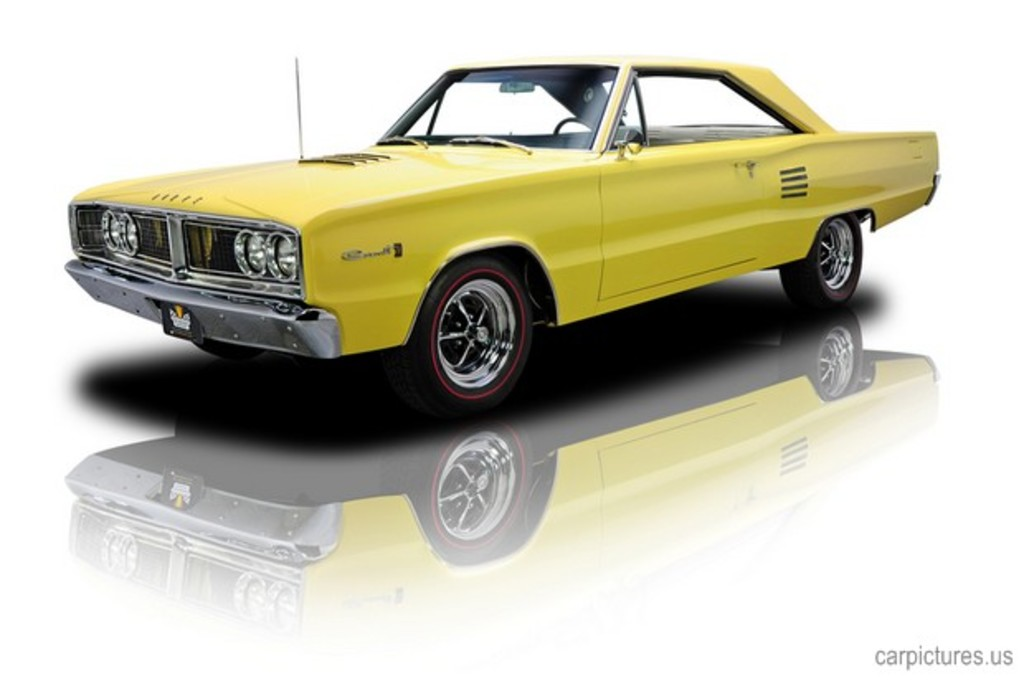Car: (66, 54, 938, 416)
